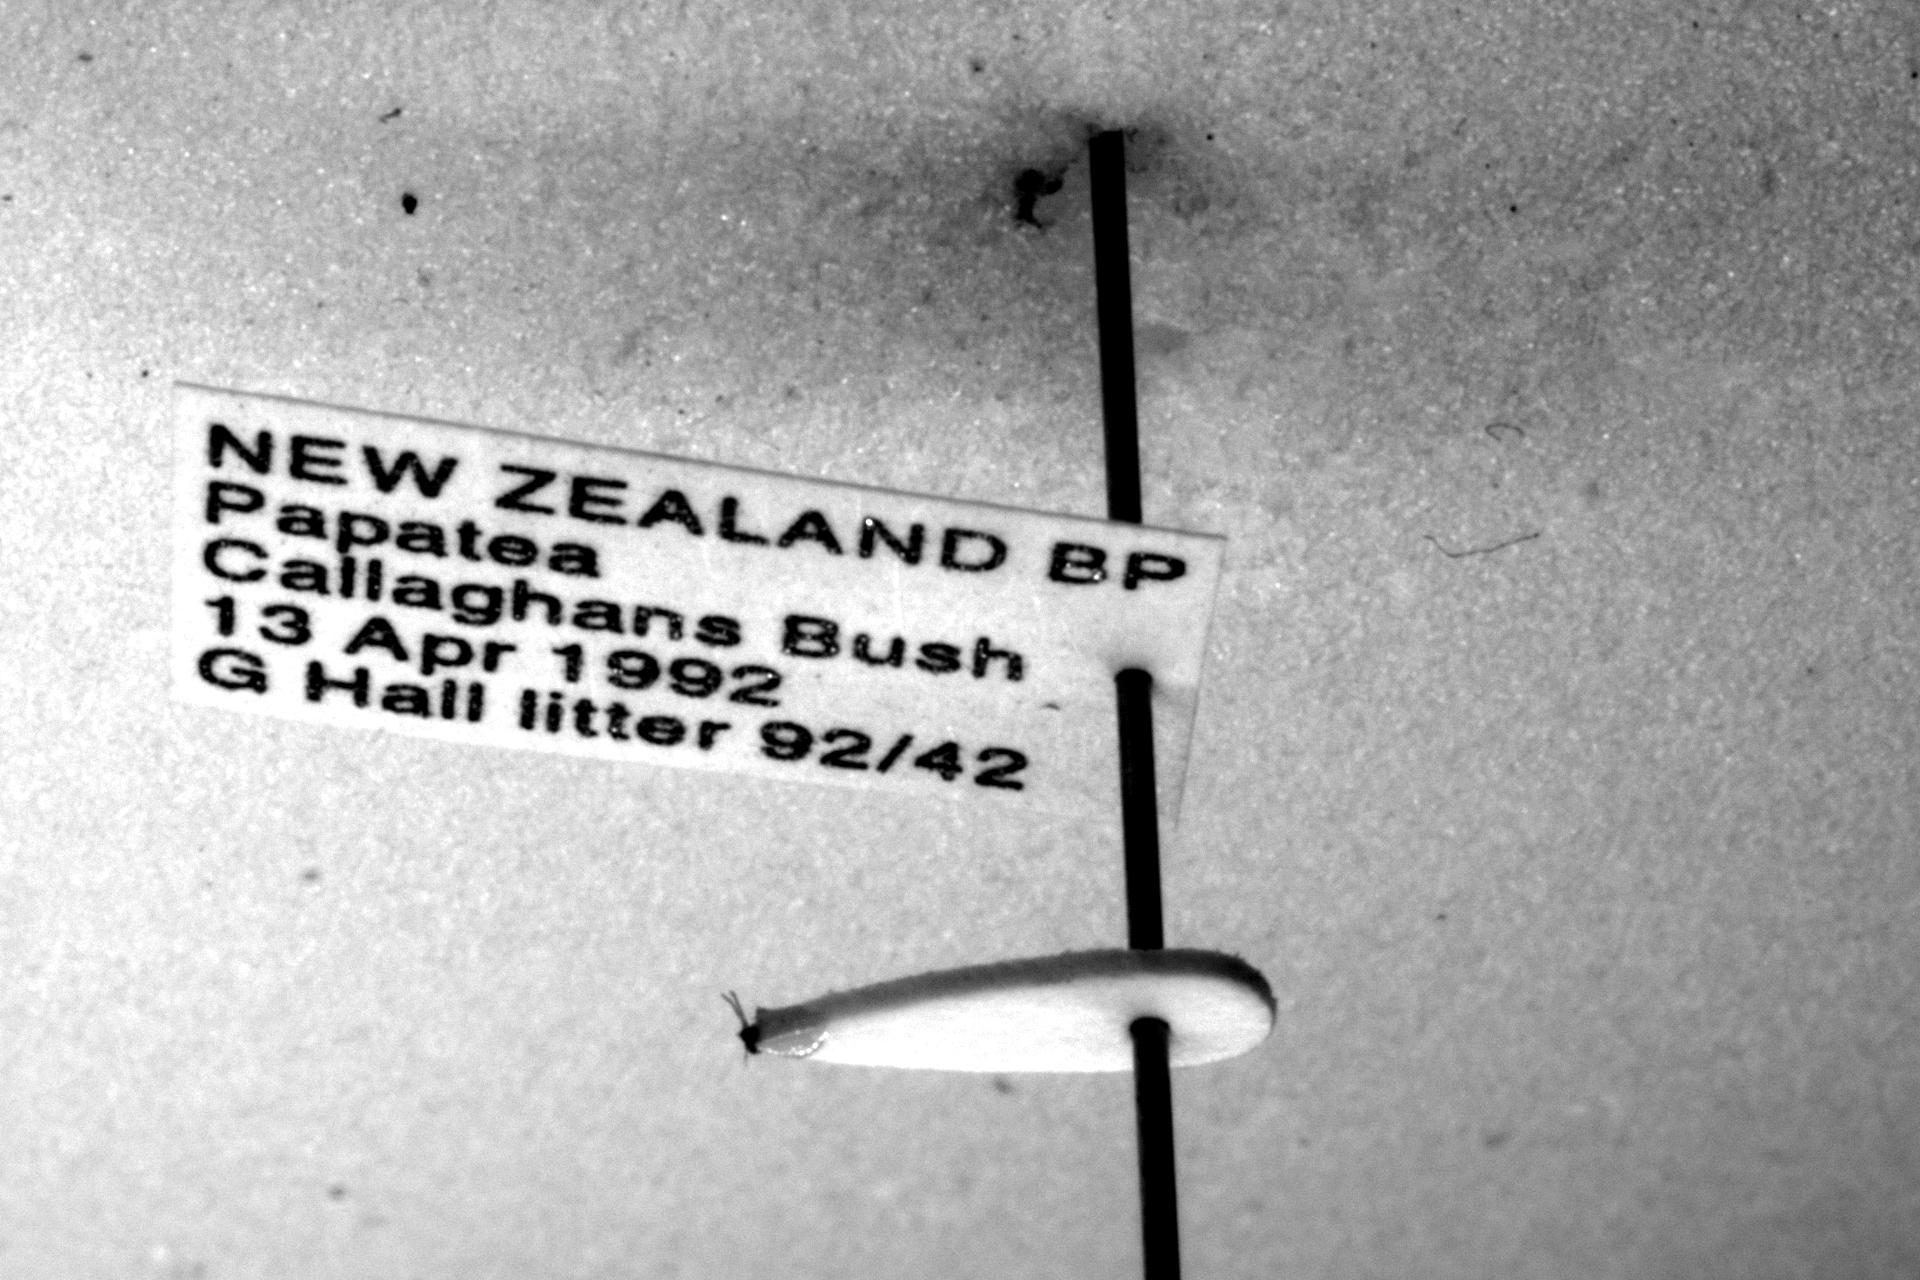typed_label: (173, 386, 1223, 821)
